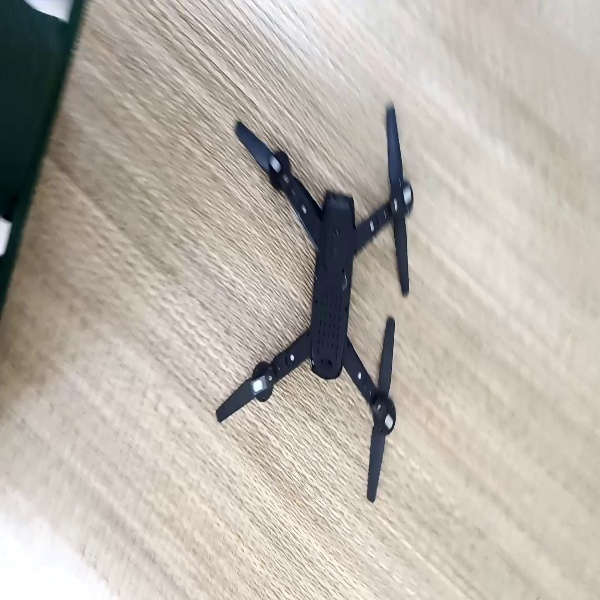drone: (214, 100, 418, 504)
